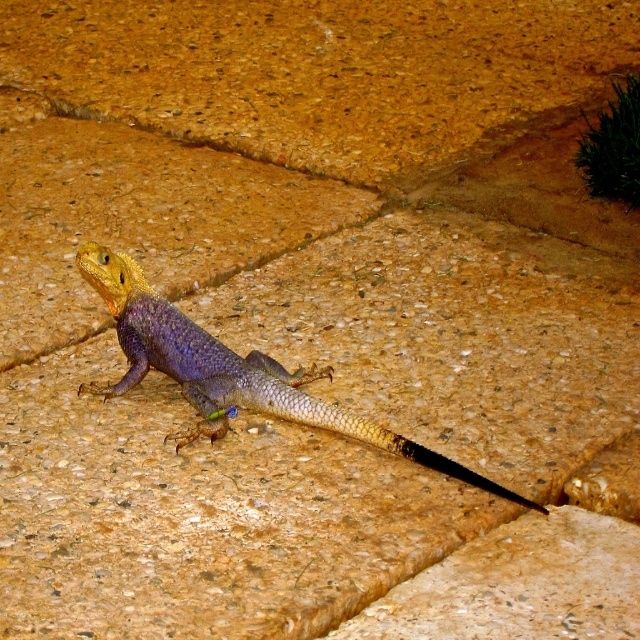Lizard: (74, 245, 548, 511)
